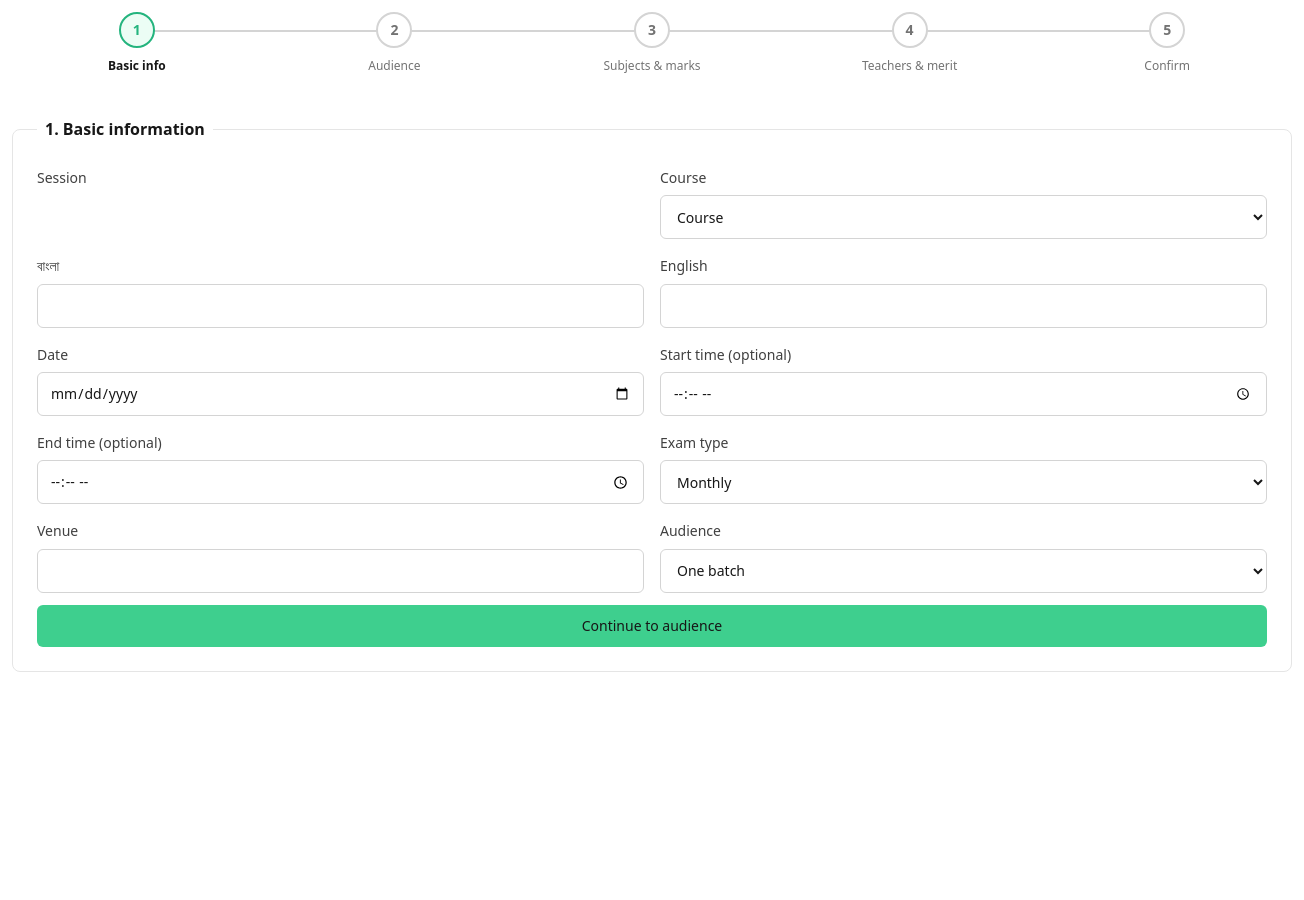
Test: ExamCreateWizard › preserves basic values when moving forward and back
The image size is (1304, 900).
Type "মাসিক পরীক্ষা" into the field labelled "বাংলা" at (340, 306), box [37,284,644,328]
Type "Monthly exam" into the field labelled "English" at (964, 306), box [660,284,1267,328]
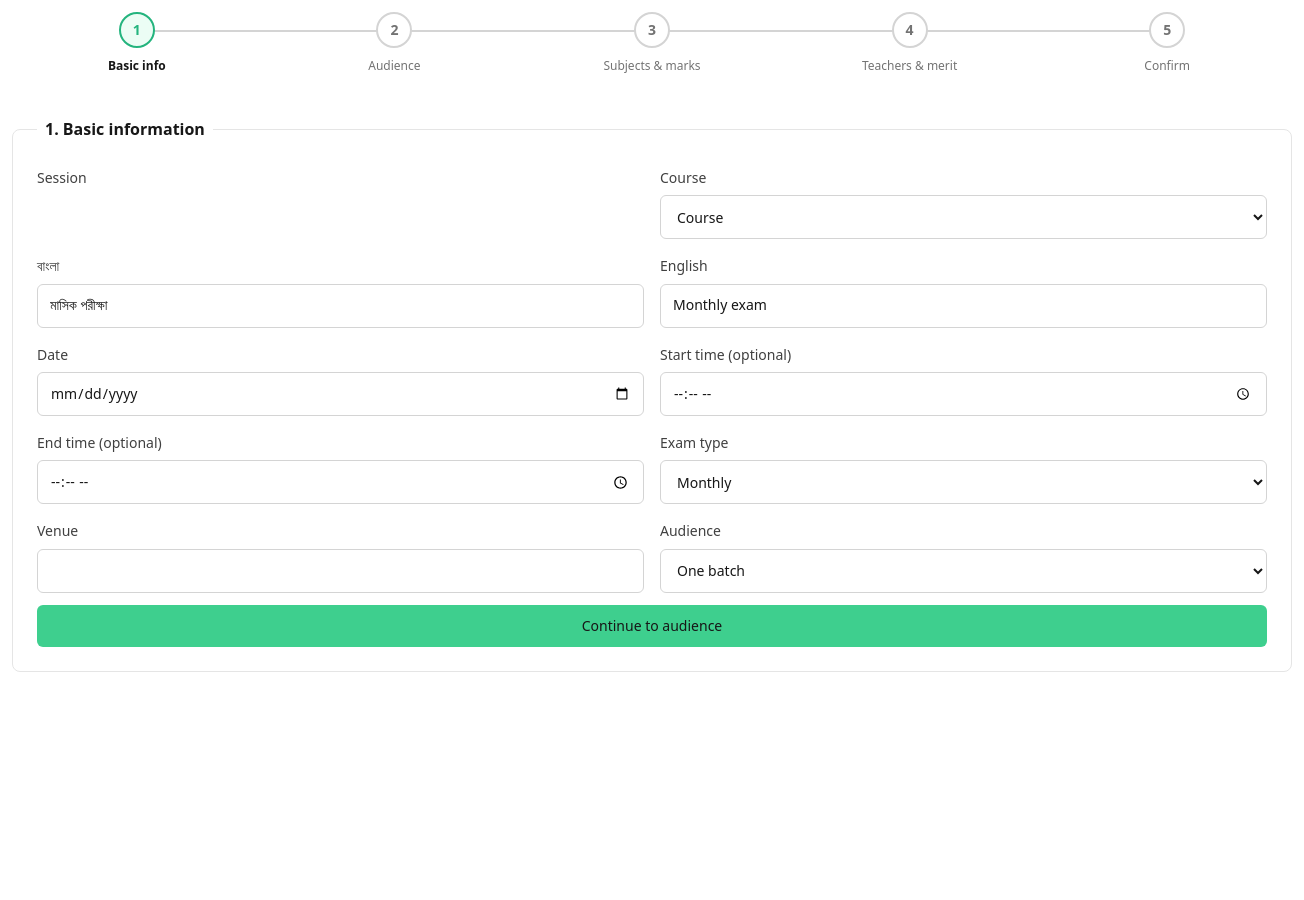
Type "2026-07-13" into the date field labelled "Date" at (340, 394), box [37,372,644,416]
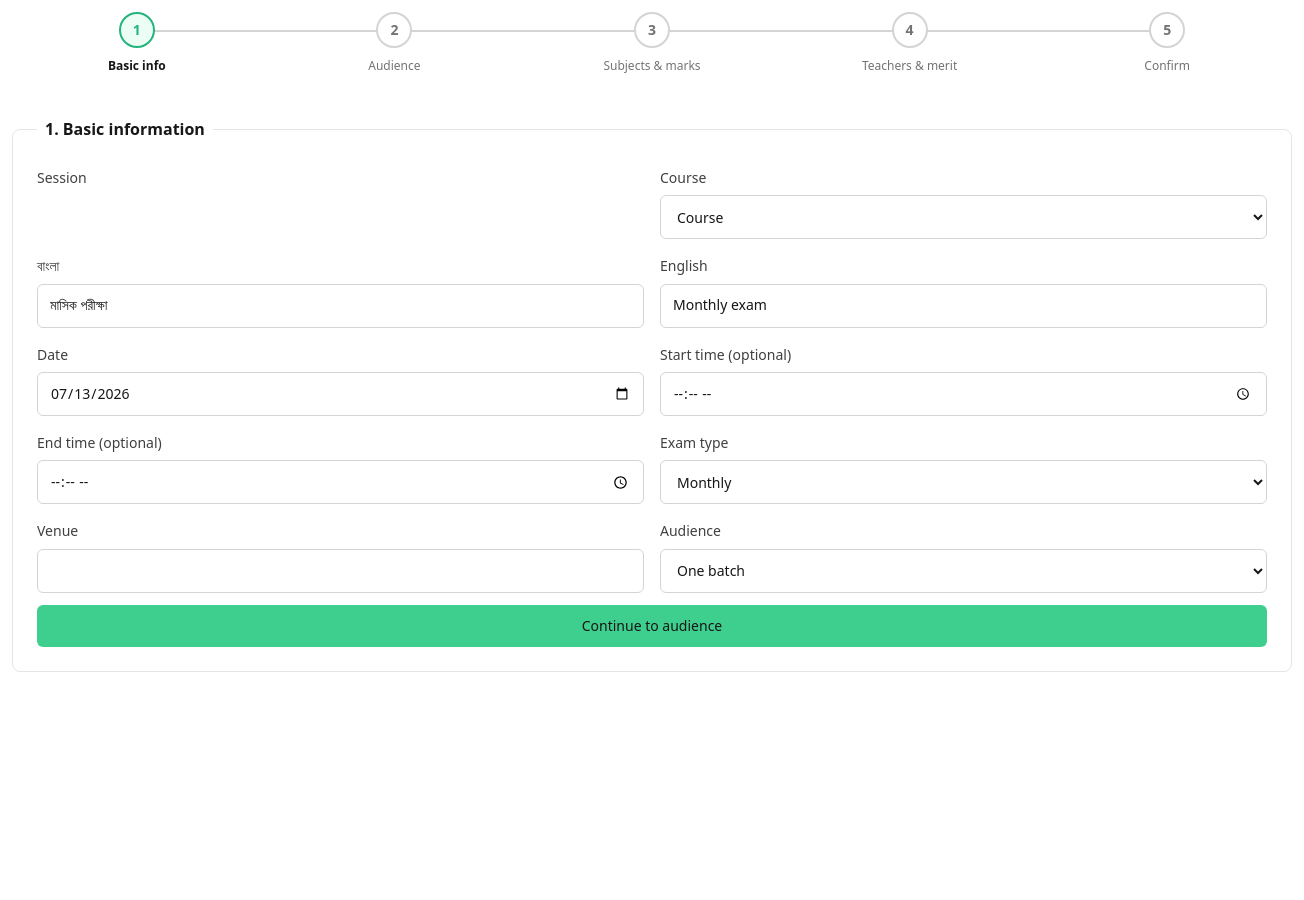
Type "10:00" into the time field labelled "Start time (optional)" at (964, 394), box [660,372,1267,416]
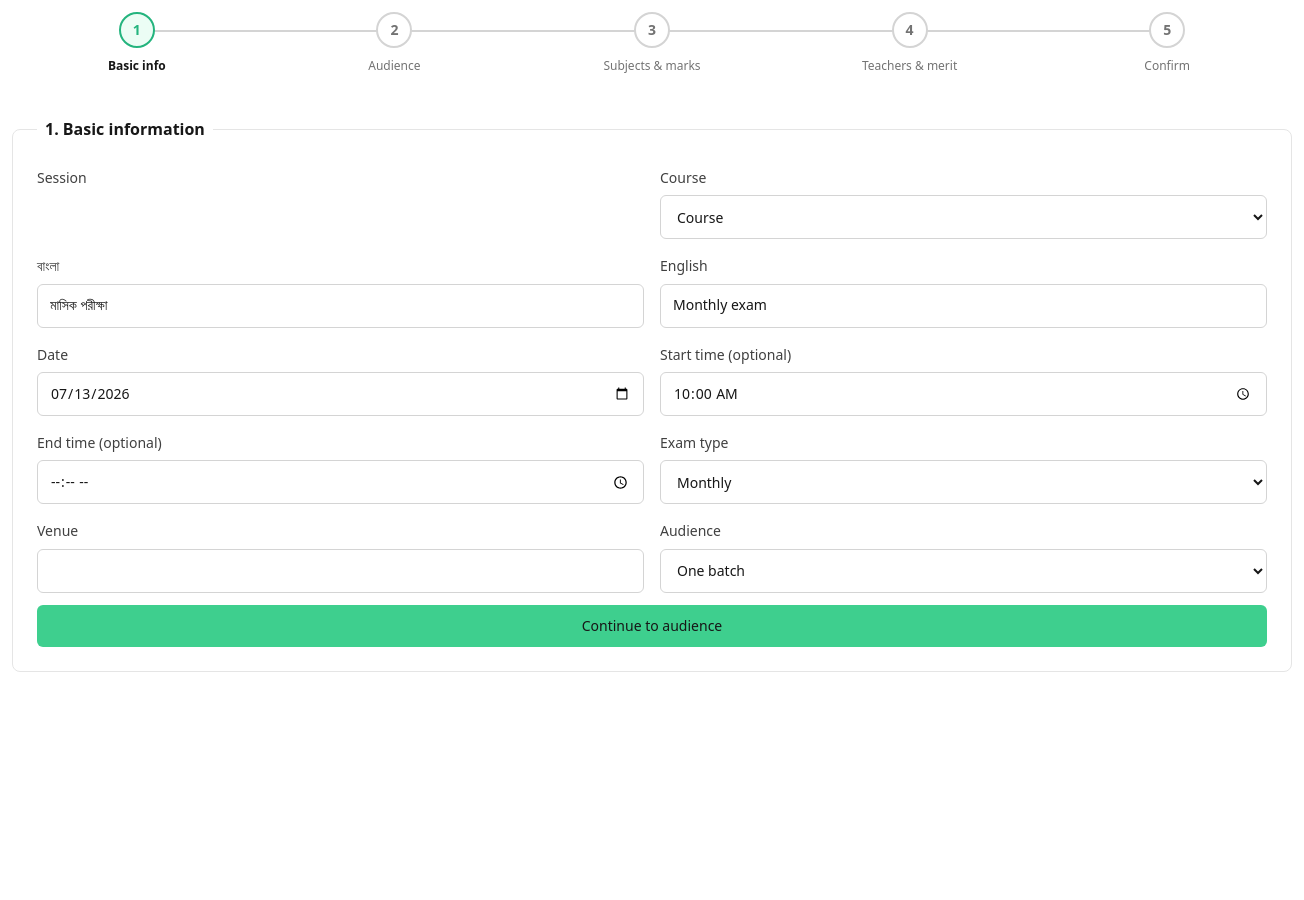
Type "11:30" into the time field labelled "End time (optional)" at (340, 482), box [37,460,644,504]
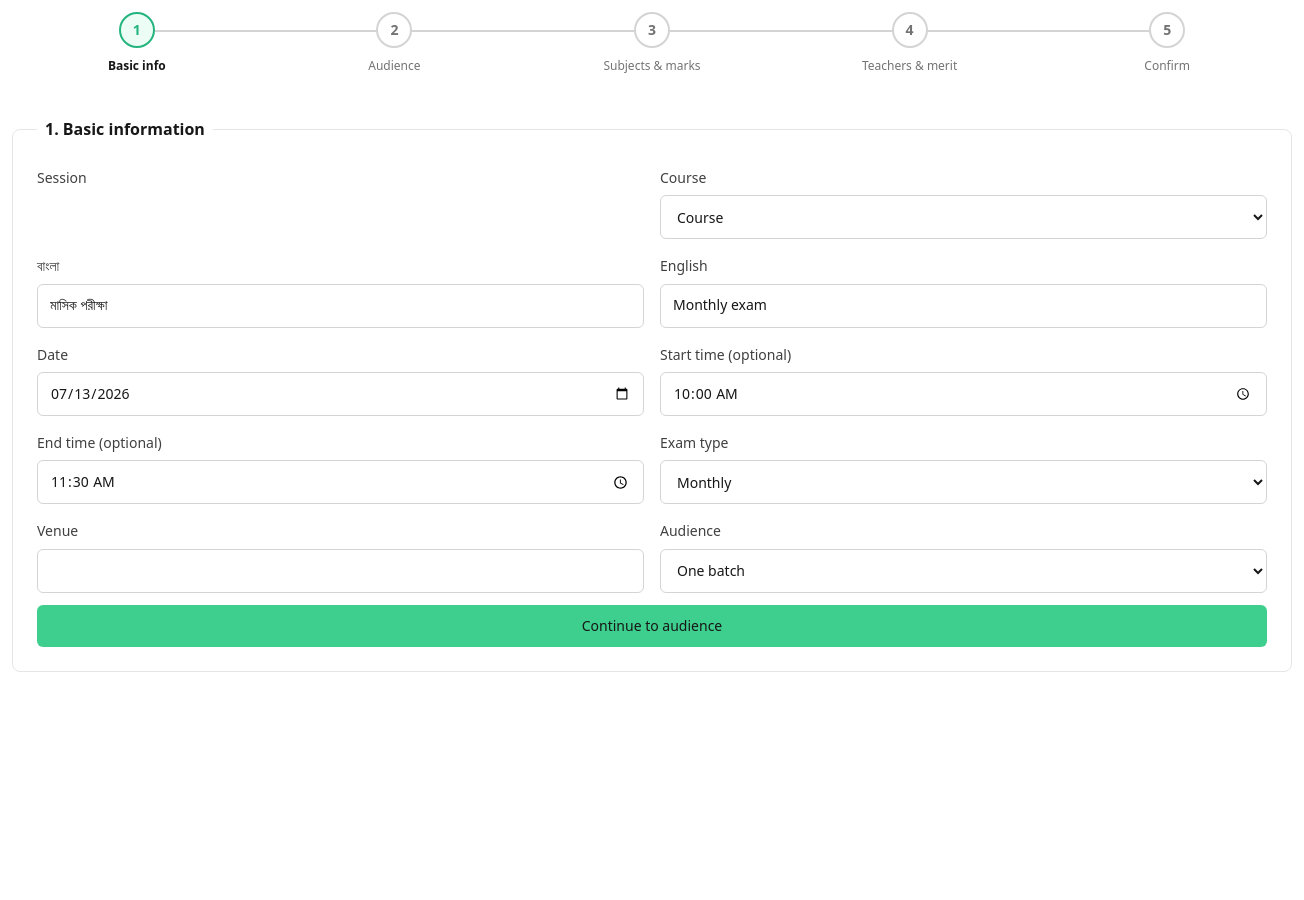
Click the button "Continue to audience" at (652, 626), box [37,605,1267,647]
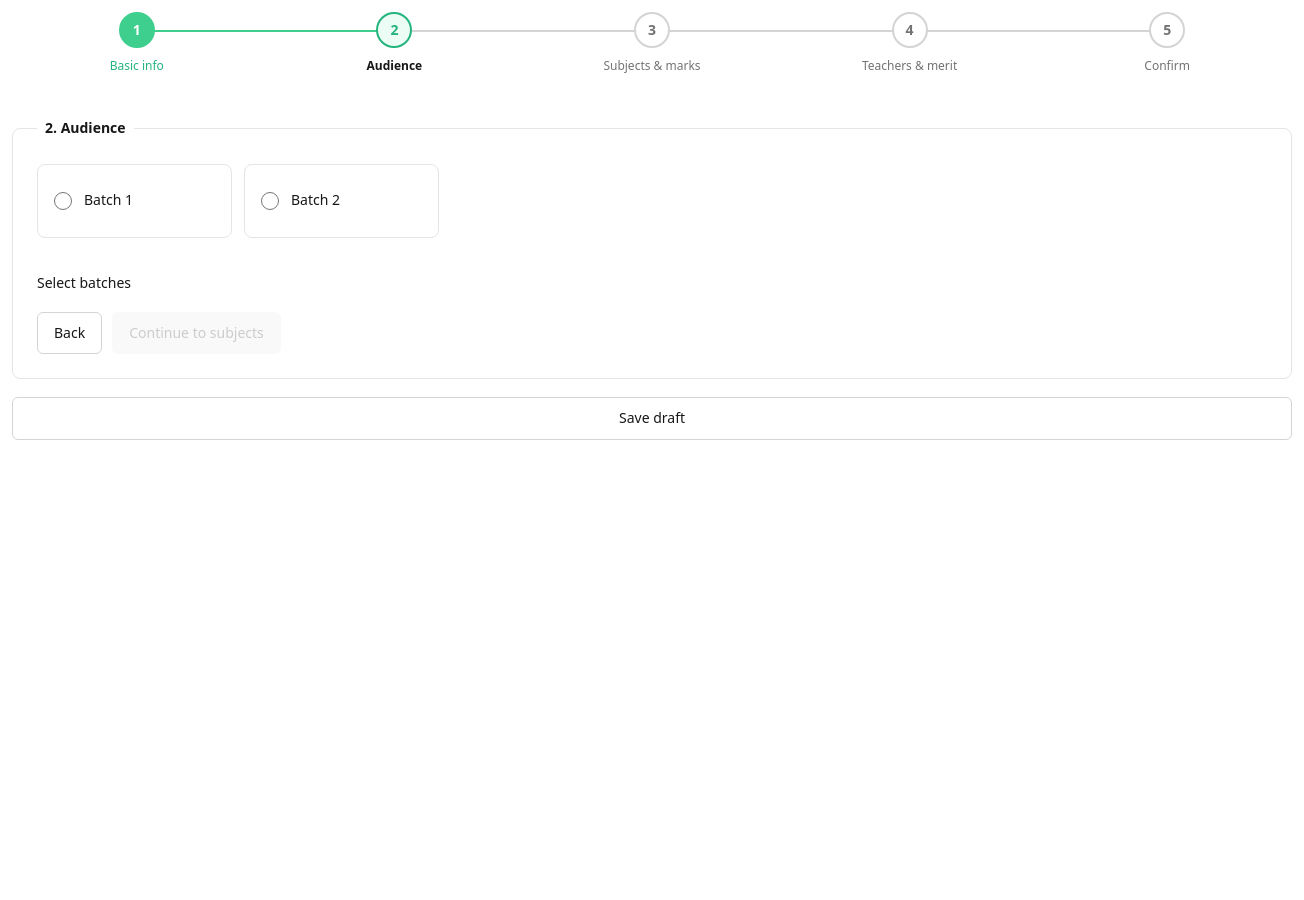
Expected: the text "2. Audience" is shown, [45,118,126,137]
Click the button "Back" at (70, 333), box [37,312,102,354]
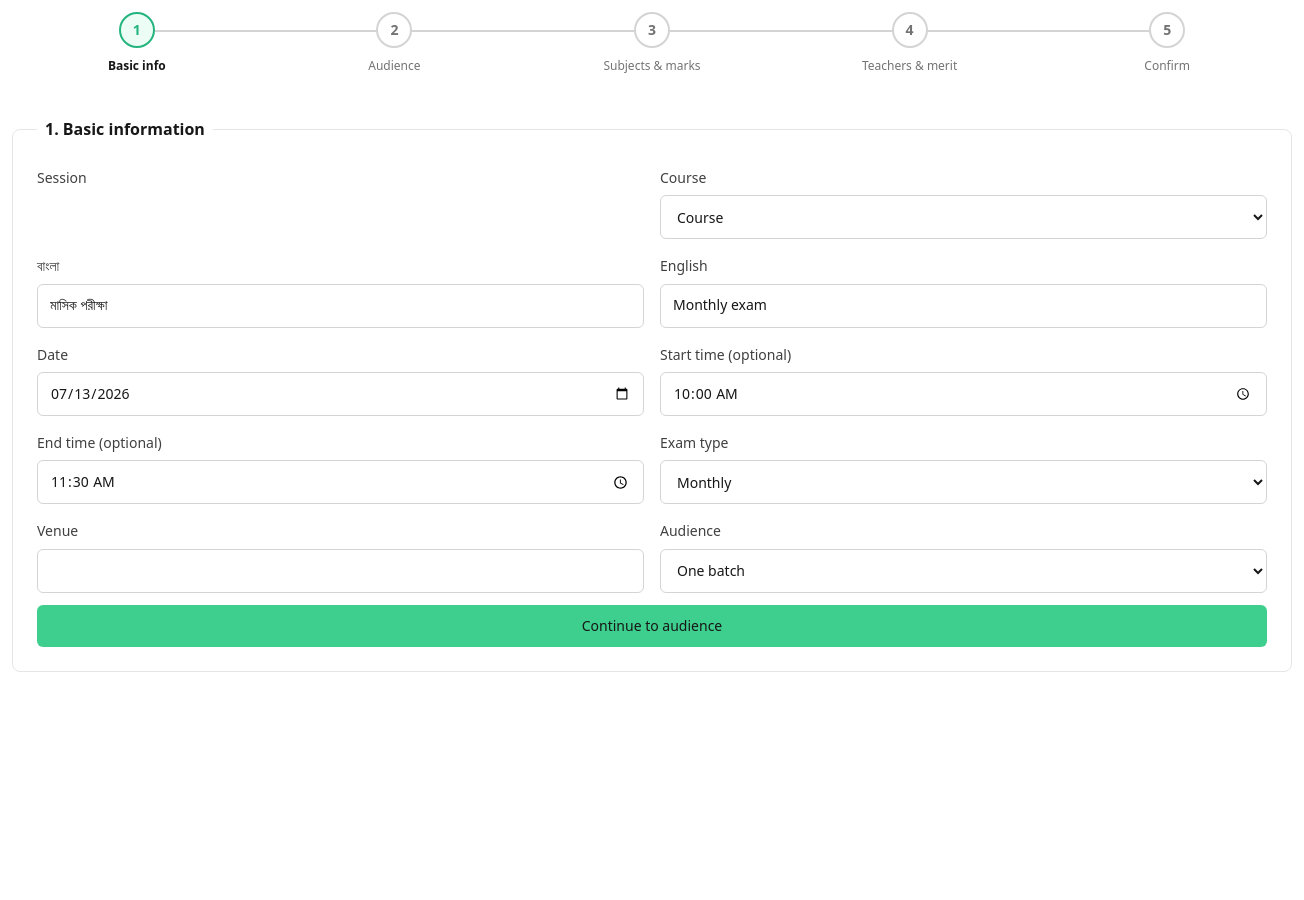
Expected: the field labelled "বাংলা" holds "মাসিক পরীক্ষা", [37,284,644,328]
Expected: the field labelled "English" holds "Monthly exam", [660,284,1267,328]
Expected: the date field labelled "Date" holds "2026-07-13", [37,372,644,416]
